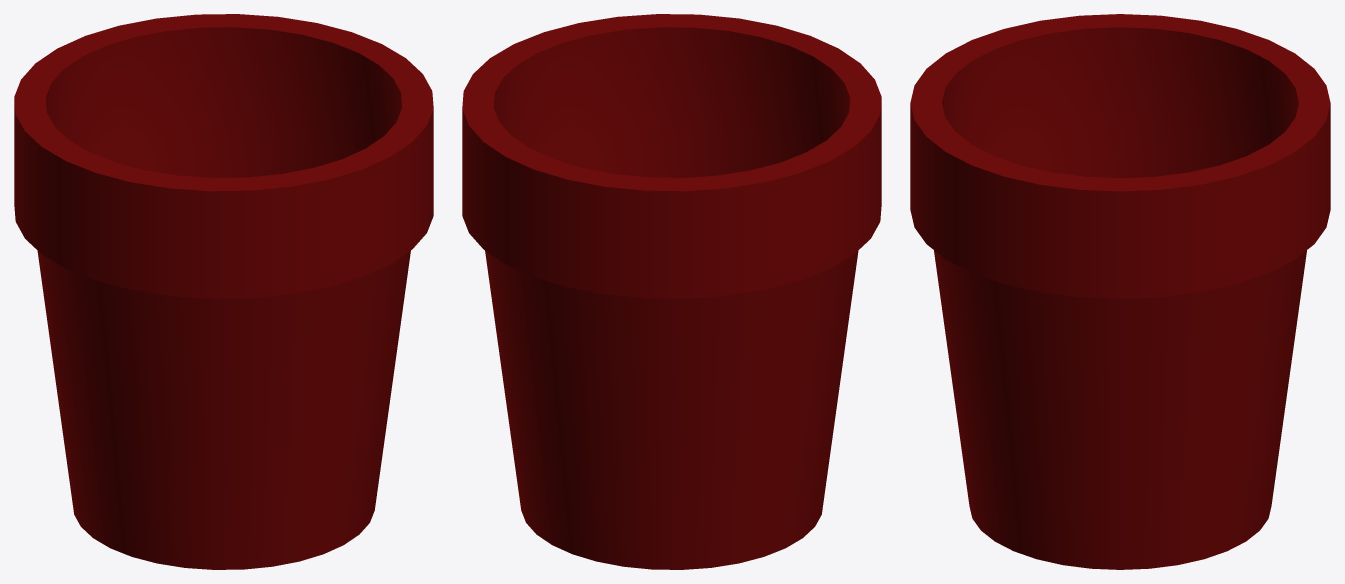
File: GrandPot_4.fbx
3 views of the same model, side by side, from view 1: azimuth 30°, elevation 25°; view 2: azimuth 150°, elevation 25°; view 3: azimuth 270°, elevation 25° (orthographic).
Visible parts, largest first — view 1: pCylinder1797; view 2: pCylinder1797; view 3: pCylinder1797.
Boxes of the visible parts, x1,y1,x2,y2 form: pCylinder1797: (14,14,433,569); pCylinder1797: (462,14,881,569); pCylinder1797: (910,14,1330,569).
Size of the model in its own units: 11.21 by 11.87 by 11.21.
